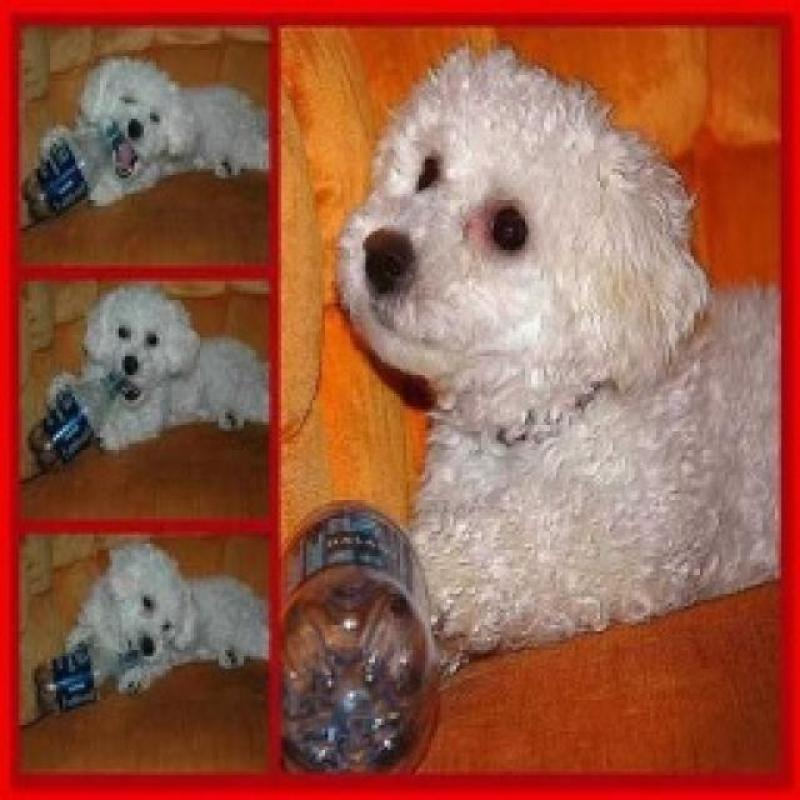botella: (282, 503, 438, 782), (26, 372, 126, 472), (24, 125, 124, 225), (32, 644, 142, 712)
